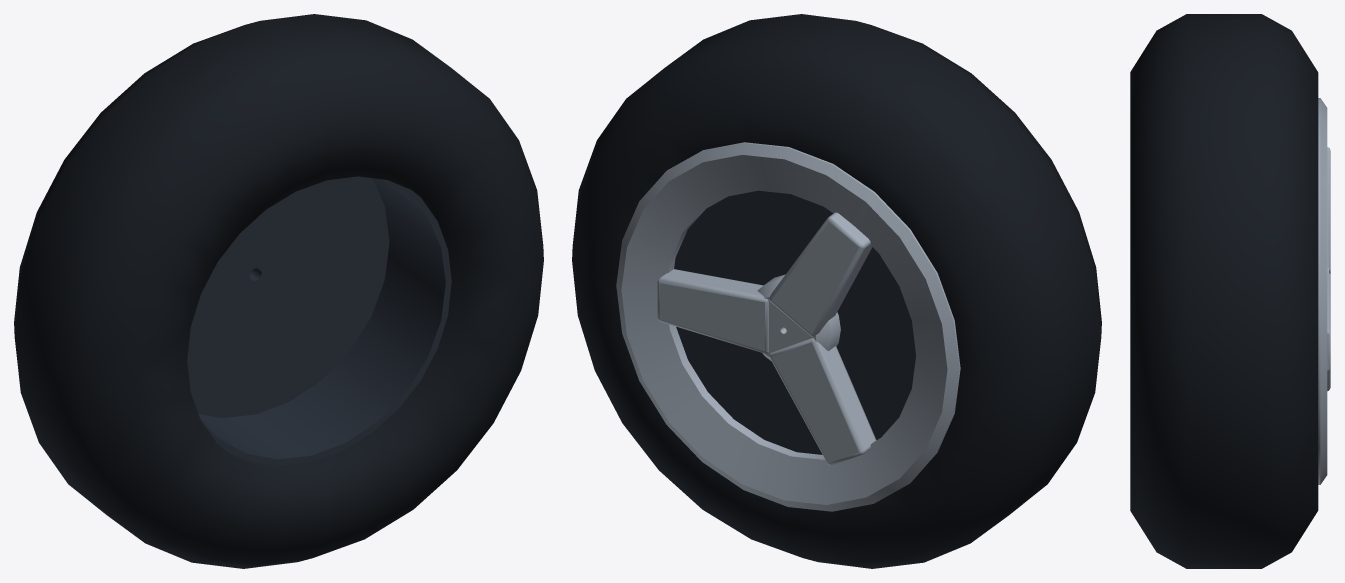
The picture shows the model from 3 angles, left to right: view 1: azimuth 30°, elevation 25°; view 2: azimuth 150°, elevation 25°; view 3: azimuth 270°, elevation 25°; orthographic projection. The views are drawn at different scales.
Visible parts, largest first — view 1: W07_Tire, W07_Vintage_dish, W07_Rim_barrel; view 2: W07_Tire, W07_Rim_outer_lip, W07_Vintage_dish, W07_Tri_bar_2, W07_Tri_bar_0, W07_Tri_bar_1, W07_Axle_cap; view 3: W07_Tire, W07_Rim_outer_lip, W07_Tri_bar_1, W07_Tri_bar_0.
Boxes of the visible parts, box(x1,y1,x2,y2) form: W07_Tire: box(14, 14, 543, 568); W07_Vintage_dish: box(187, 176, 389, 418); W07_Rim_barrel: box(198, 178, 451, 465); W07_Tire: box(572, 14, 1101, 568); W07_Rim_outer_lip: box(616, 142, 960, 511); W07_Vintage_dish: box(674, 190, 915, 454); W07_Tri_bar_2: box(769, 338, 876, 465); W07_Tri_bar_0: box(657, 269, 768, 353); W07_Tri_bar_1: box(769, 212, 872, 337); W07_Axle_cap: box(757, 274, 840, 360); W07_Tire: box(1130, 14, 1318, 568); W07_Rim_outer_lip: box(1318, 98, 1327, 484); W07_Tri_bar_1: box(1327, 147, 1330, 274); W07_Tri_bar_0: box(1327, 273, 1330, 371).
Bounding box in the file's own units: 3.1 × 3.1 × 1.12.
